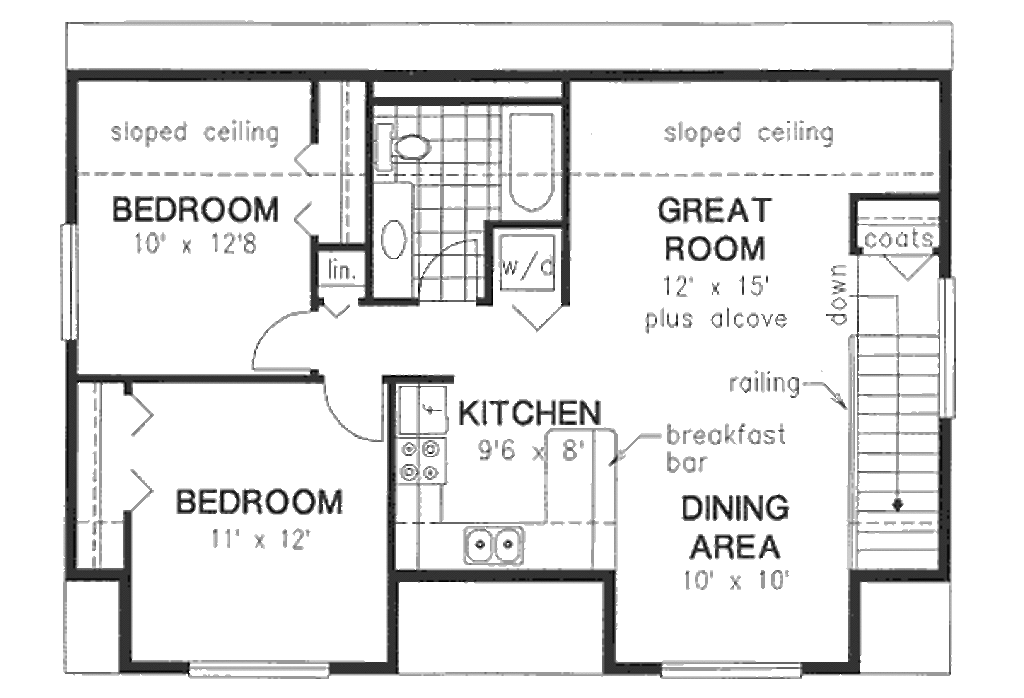door: (416, 232, 486, 305), (245, 312, 321, 377), (319, 379, 392, 446)
large_sink: (370, 118, 443, 180)
small_sink: (368, 181, 419, 302)
stairs: (847, 244, 947, 571)
tub: (502, 103, 560, 225)
twin_sink: (446, 517, 535, 573)
window: (188, 658, 338, 680), (57, 221, 81, 342), (939, 275, 959, 415), (657, 662, 806, 680)
